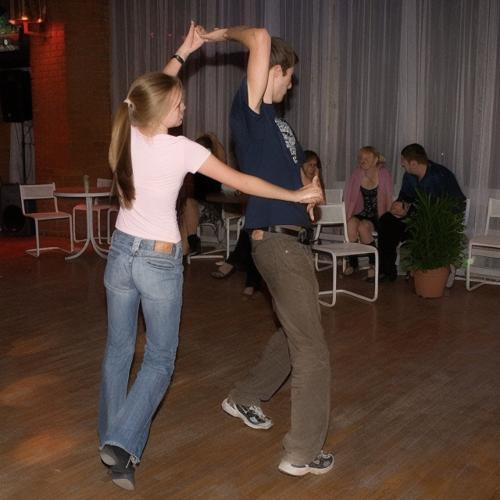chair: (303, 202, 387, 317), (341, 179, 399, 285), (15, 181, 75, 261), (468, 188, 500, 307), (74, 174, 110, 249)
person: (89, 19, 323, 494), (196, 15, 338, 481), (379, 137, 468, 296), (341, 146, 397, 281)
person/foot: (99, 436, 140, 494), (221, 395, 277, 430), (278, 451, 334, 477), (420, 283, 437, 296), (379, 273, 397, 281), (344, 267, 357, 277), (366, 268, 376, 279)
person/hand: (183, 20, 207, 59), (295, 181, 321, 206), (309, 177, 323, 218), (200, 26, 228, 46), (392, 203, 409, 218)
person/head: (124, 76, 189, 138), (262, 37, 294, 107), (401, 144, 431, 177), (359, 148, 380, 171)
pottedplant: (400, 188, 465, 296)
